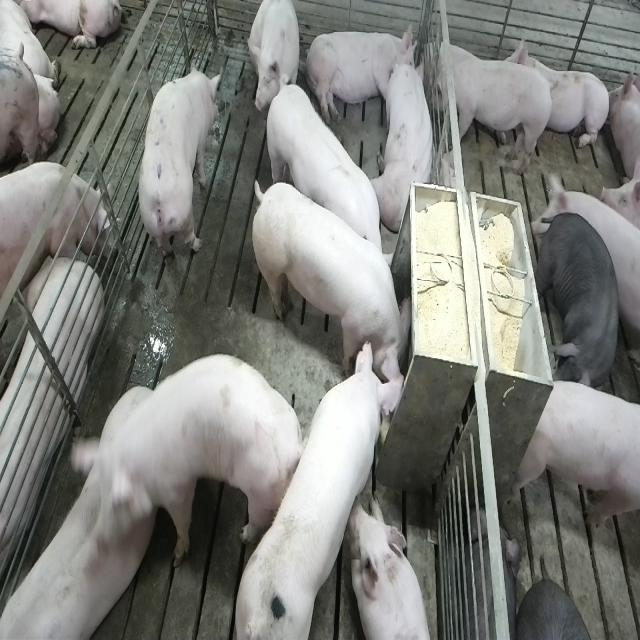Feeding: (239, 330, 415, 635), (255, 171, 420, 393)
Lateral_lying: (0, 232, 102, 590), (304, 21, 417, 127)
Sitting: (250, 2, 304, 117)
Standing: (64, 352, 303, 566), (4, 427, 155, 638), (262, 77, 394, 285), (511, 373, 639, 541), (138, 59, 222, 276), (424, 51, 556, 181), (0, 163, 110, 297), (535, 212, 619, 387)
Sternal_lying: (502, 29, 608, 153), (375, 46, 438, 232), (353, 500, 434, 640)
